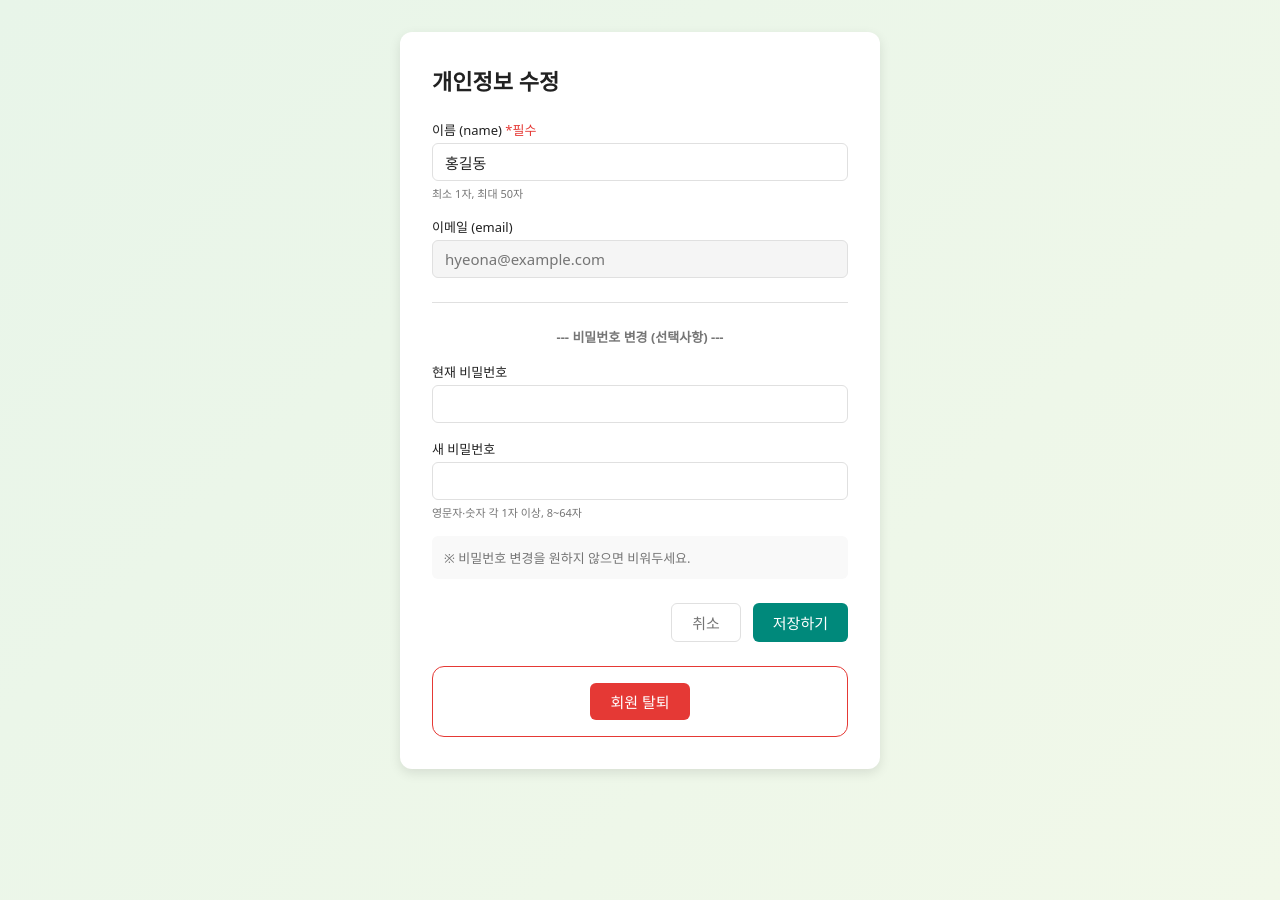
ProfilePage › 회원 탈퇴 버튼 클릭 시 다이얼로그가 표시된다
The width and height of the screenshot is (1280, 900).
Step 1. Click the button "회원 탈퇴" → [640, 702], box [590,683,690,720]
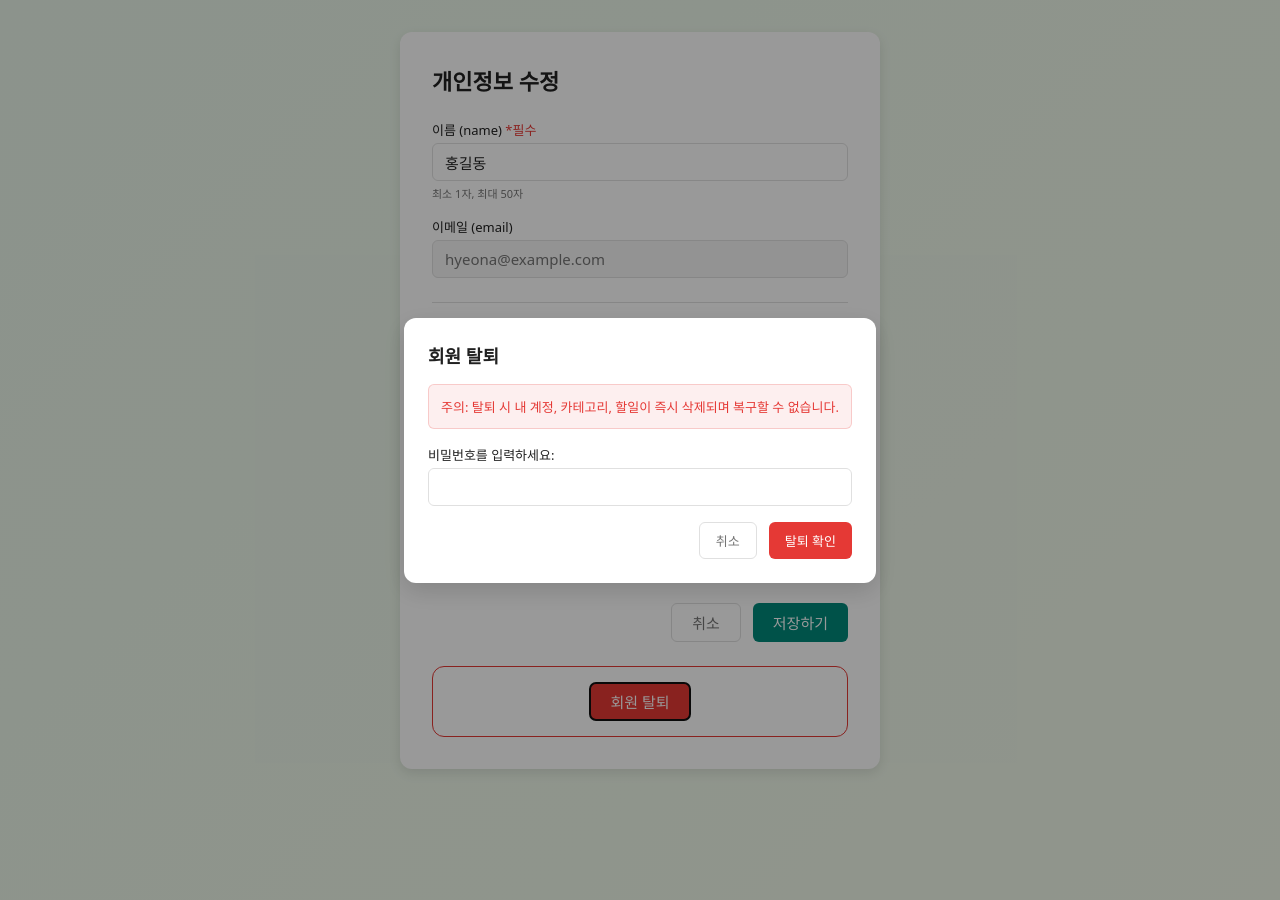
expect the text "주의: 탈퇴 시 내 계정, 카테고리, 할일이 즉시 삭제되며 복구할 수 없습니다." is shown: met, box [428,384,852,428]
expect the button "탈퇴 확인" is shown: met, box [769,522,852,558]
